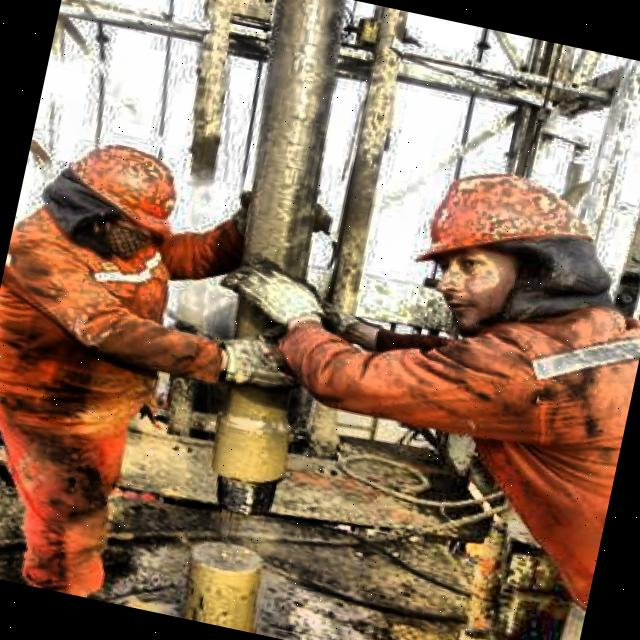helmet: (378, 126, 634, 366), (24, 112, 207, 278)
